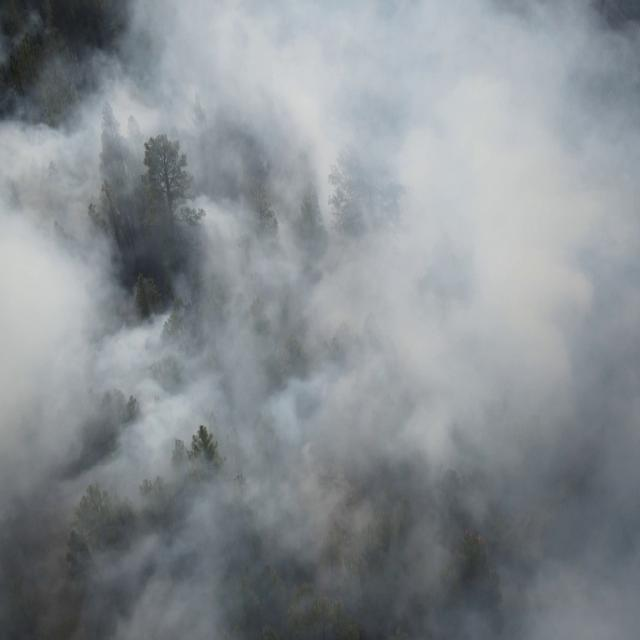fire: (463, 528, 490, 552)
smoke: (0, 0, 640, 640)
